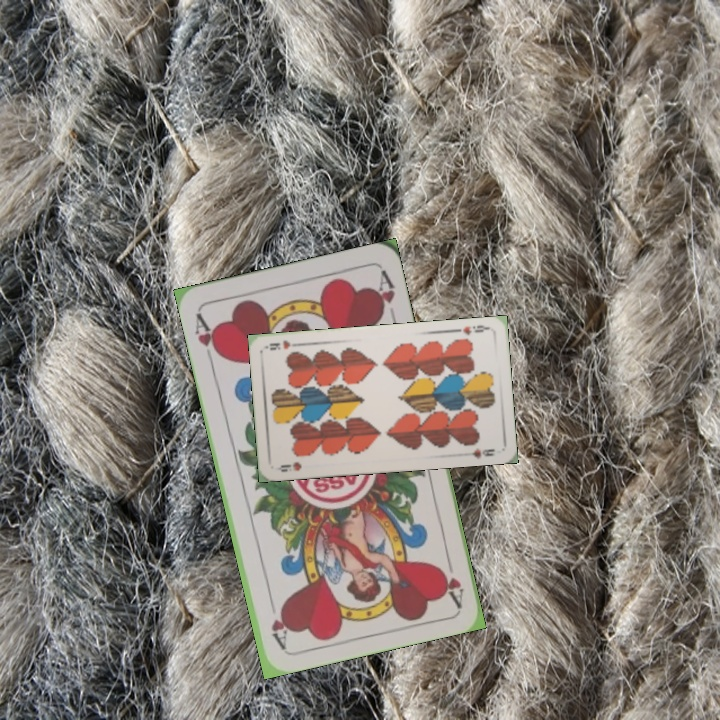H9: (459, 321, 492, 338), (277, 458, 304, 474)
HA: (191, 309, 224, 367), (436, 549, 467, 608)
